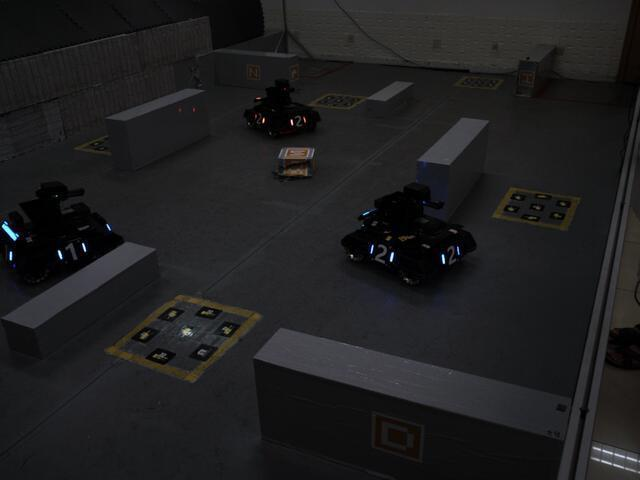armor: (54, 234, 90, 269), (366, 237, 396, 270), (436, 243, 465, 269), (284, 113, 312, 131), (251, 109, 268, 129)
